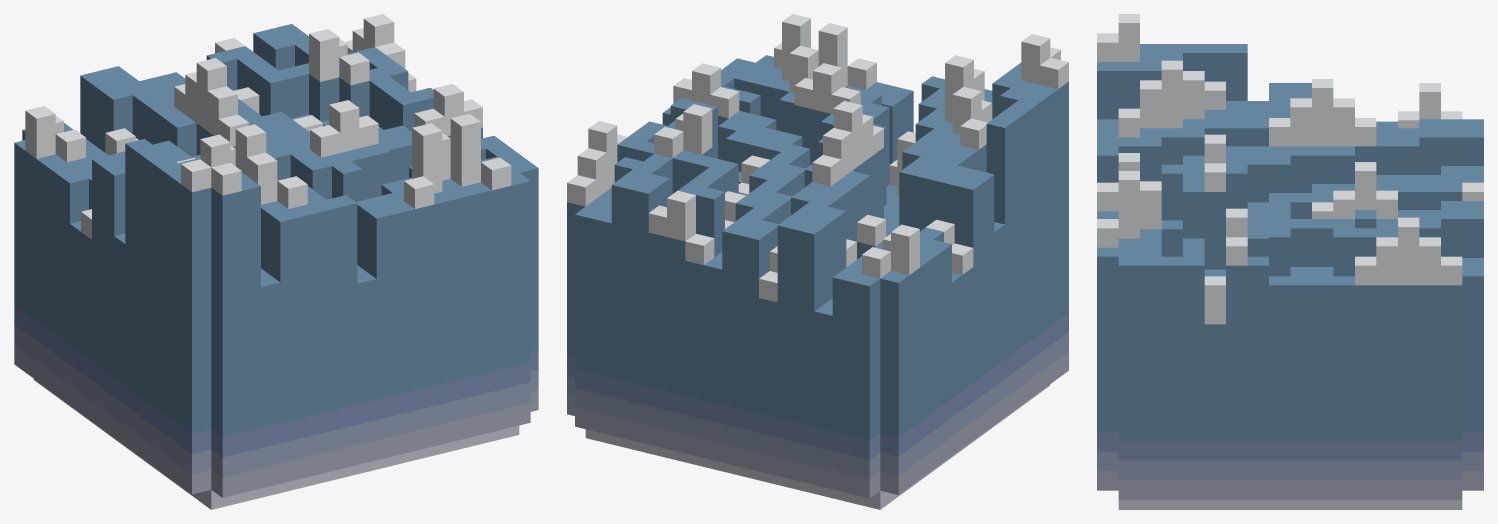
File: bloco-gelo.obj
The picture shows the model from 3 angles, left to right: view 1: azimuth 30°, elevation 25°; view 2: azimuth 150°, elevation 25°; view 3: azimuth 270°, elevation 25°; orthographic projection. The views are drawn at different scales.
Size of the model in its own units: 1.8 by 1.8 by 1.8.
1 material, 1 textured.
